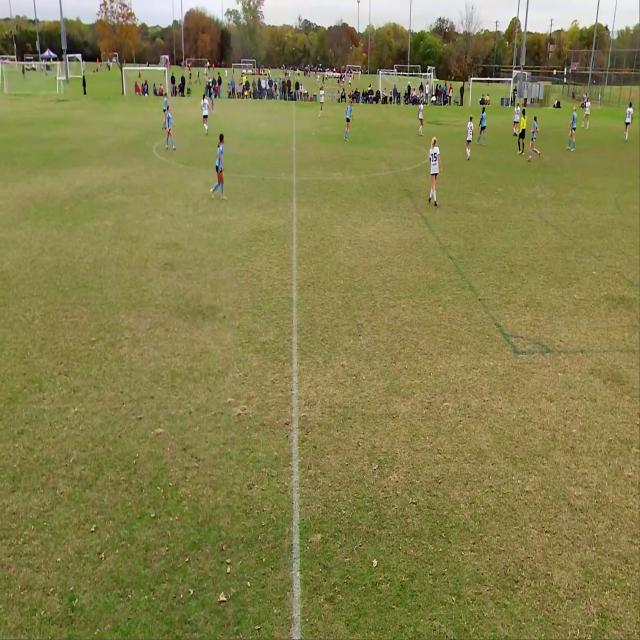Referee: (518, 112, 528, 155)
TEAM 1: (213, 134, 226, 199), (164, 105, 177, 151), (528, 115, 541, 161), (569, 105, 578, 150), (479, 107, 488, 145), (346, 100, 354, 139), (163, 92, 171, 130), (521, 96, 529, 129)
TEAM 2: (428, 138, 441, 204), (465, 117, 475, 161), (202, 94, 212, 135), (625, 101, 634, 140), (513, 101, 522, 137), (583, 92, 592, 128), (418, 100, 426, 135), (318, 86, 326, 118)
